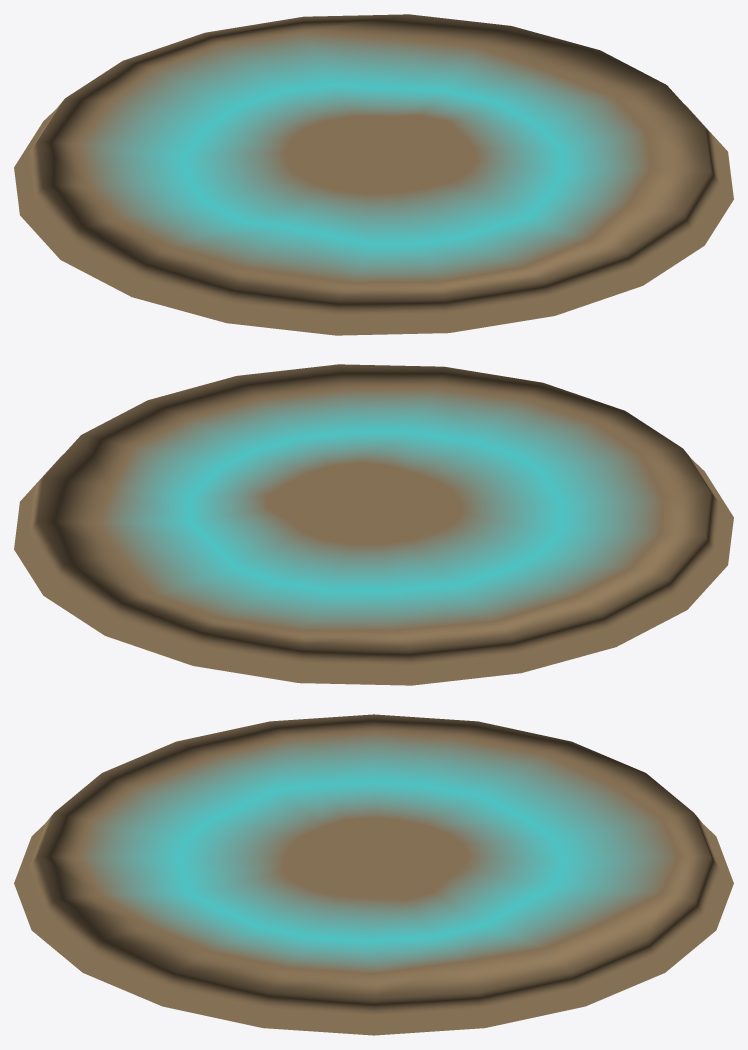
The model's file is platform2.fbx.
The picture shows the model from 3 angles, top to bottom: view 1: azimuth 30°, elevation 25°; view 2: azimuth 150°, elevation 25°; view 3: azimuth 270°, elevation 25°; orthographic projection.
Visible parts, largest first — view 1: platform2; view 2: platform2; view 3: platform2.
Boxes of the visible parts, left/top/right/bottom form: platform2: left=14, top=14, right=733, bottom=335; platform2: left=14, top=364, right=733, bottom=685; platform2: left=14, top=714, right=733, bottom=1035.
Size of the model in its own units: 444 by 18.96 by 444.
